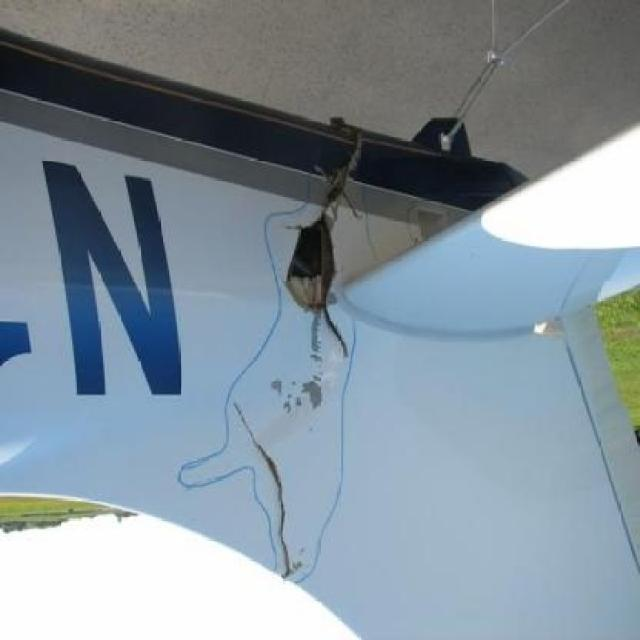crack: (232, 420, 314, 586)
